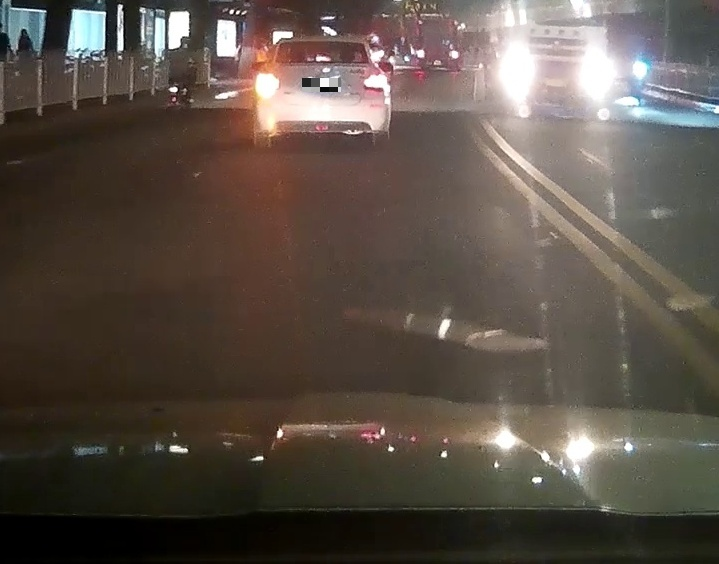L_light: (255, 74, 280, 90)
R_light: (363, 75, 388, 90)
T_light: (306, 55, 332, 62)
night-left: (253, 35, 392, 147)
plate_1: (302, 78, 341, 92)
